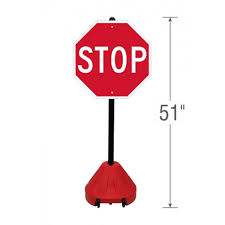SS: (74, 21, 150, 98)
